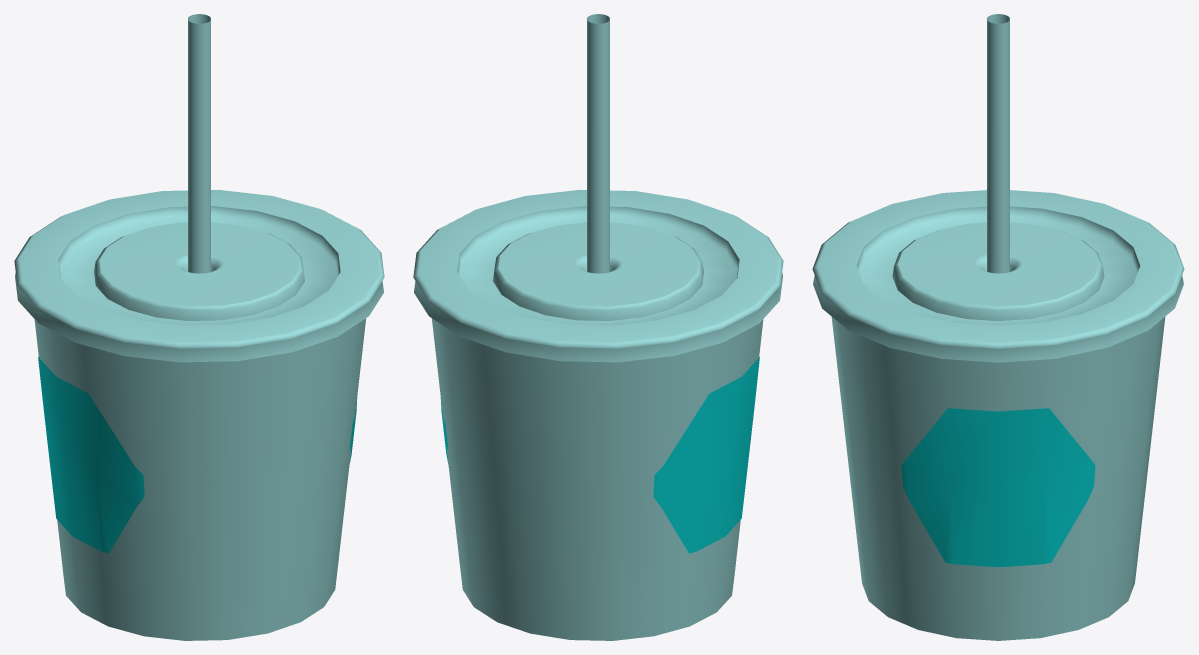
Rendered from HachimiXL.fbx.
3 renders of one model, left to right at view 1: azimuth 30°, elevation 25°; view 2: azimuth 150°, elevation 25°; view 3: azimuth 270°, elevation 25°, orthographic.
Visible parts, largest first — view 1: M_Prop; view 2: M_Prop; view 3: M_Prop.
Part boxes in pixels (x1=…): M_Prop: x1=14, y1=14, x2=384, y2=640; M_Prop: x1=413, y1=14, x2=783, y2=640; M_Prop: x1=812, y1=14, x2=1184, y2=640.
Bounding box in the file's own units: 0.1021 × 0.1709 × 0.1021.
